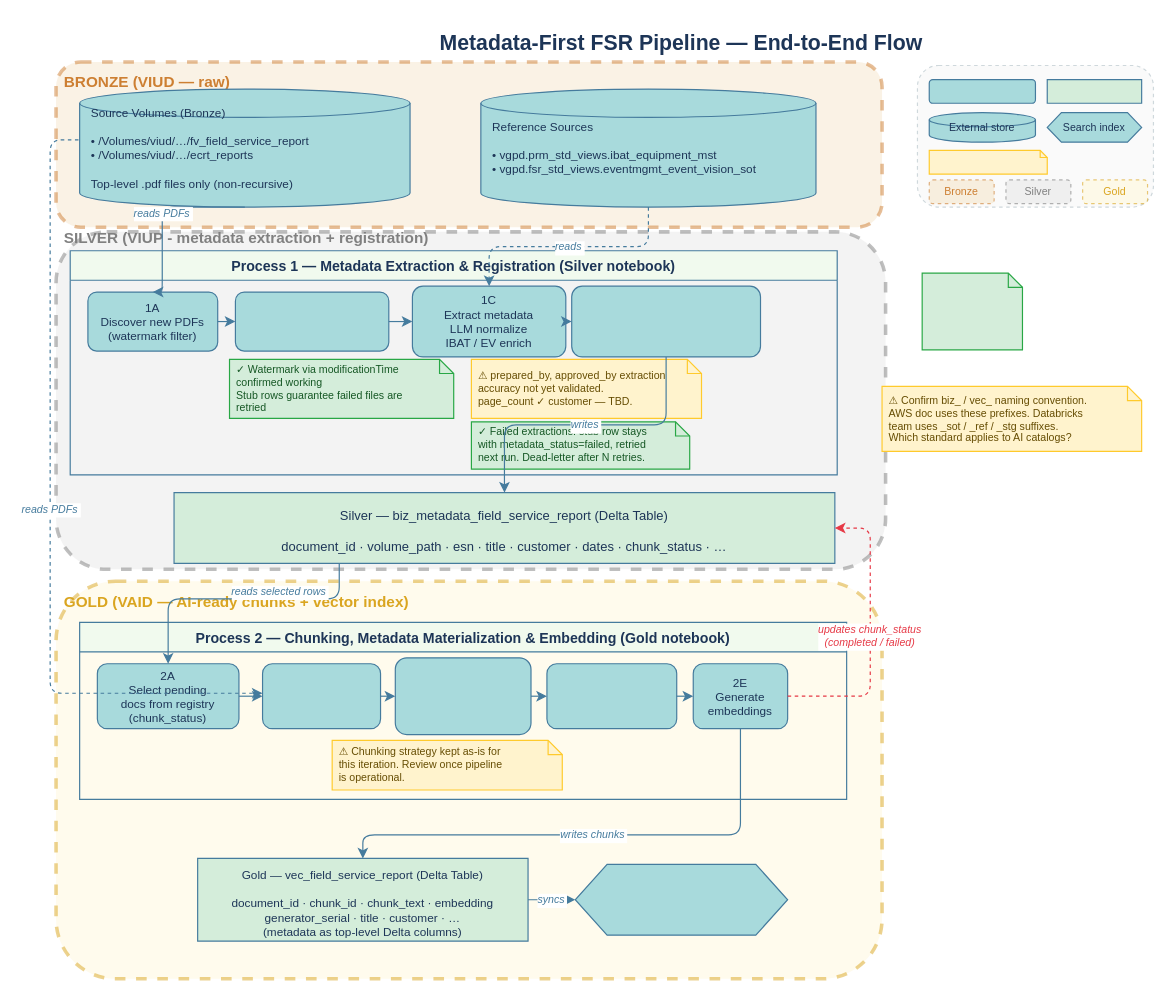
The diagram is 1174 pixels wide and 1001 high, and some of its shapes have lost their labels. The centre of each missing label's shape, as x and y in pixels:
"1B MERGE stub rows (metadata_status=pending)" goes at [311,321].
"1D Write one metadata row per document to registry chunk_status = pending" goes at [666,321].
"2B Load PDFs (volume_path)" goes at [321,696].
"2C Extract text Split into chunks (current strategy as-is)" goes at [462,696].
"2D Materialize metadata onto chunk rows" goes at [611,696].
"Delta table" goes at [1094,90].
"Notebook step" goes at [981,90].
"Vector Search Index (searchable)" goes at [681,899].
"⚠ Discussion" goes at [987,161].
"✓ Failed extraction: stub row stays metadata_status= failed, retried next run" goes at [971,311].
